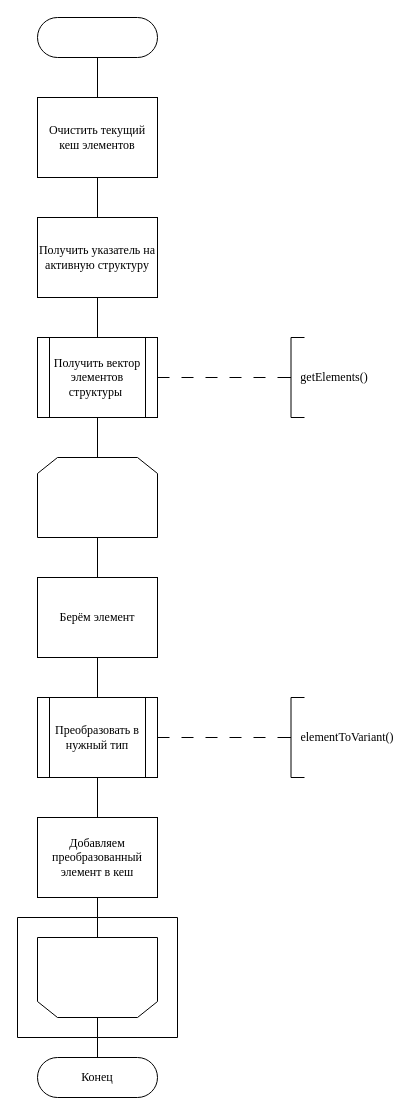
This 411x1115 diagram has some shape labels left out. The shapes that lost their labels are listed below. From the top down, each one's centre as x and y in pixels, then its label:
the point at 97,37: Начало
the point at 97,497: Обход всех элементов полученного вектора пока не обошли все элементы
the point at 97,977: Обход всех элементов полученного вектора
